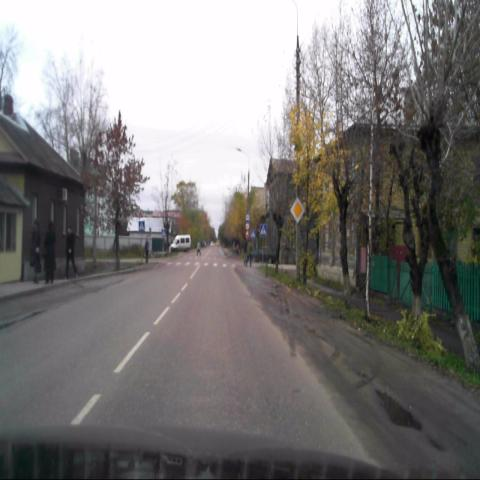2_1: (290, 196, 304, 223)
5_19_1: (260, 224, 267, 237)
